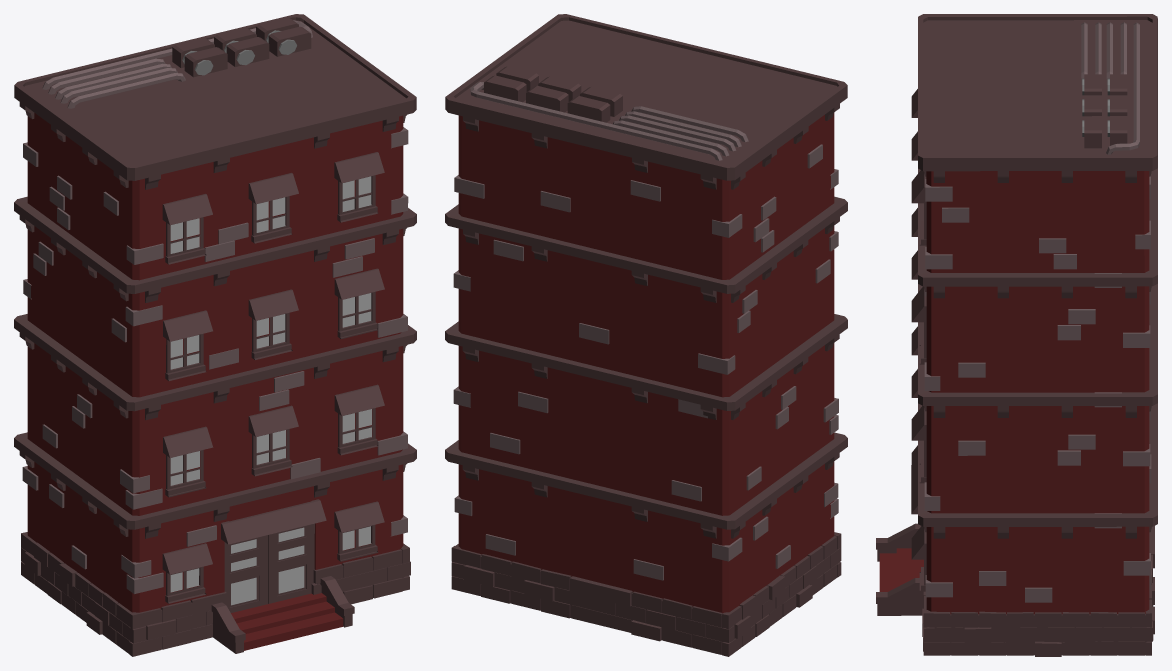
Rendered from 4 Story_Mat.fbx.
The picture shows the model from 3 angles, left to right: view 1: azimuth 30°, elevation 25°; view 2: azimuth 150°, elevation 25°; view 3: azimuth 270°, elevation 25°; orthographic projection.
Parts seen in each view (by area): view 1: _4Story_Mat; view 2: _4Story_Mat; view 3: _4Story_Mat.
Part boxes in pixels (x1,y1,x2,y2): _4Story_Mat: [14, 14, 416, 656]; _4Story_Mat: [445, 14, 847, 656]; _4Story_Mat: [876, 14, 1157, 656].
Size of the model in its own units: 938 by 1558 by 774.
